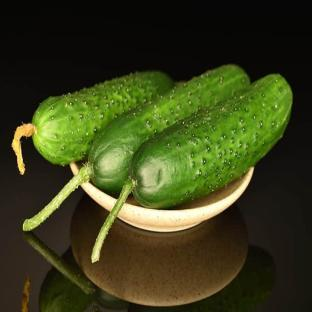Cucumber: (92, 75, 292, 261), (24, 65, 249, 230), (13, 72, 174, 174), (129, 246, 275, 311), (25, 233, 128, 311)
